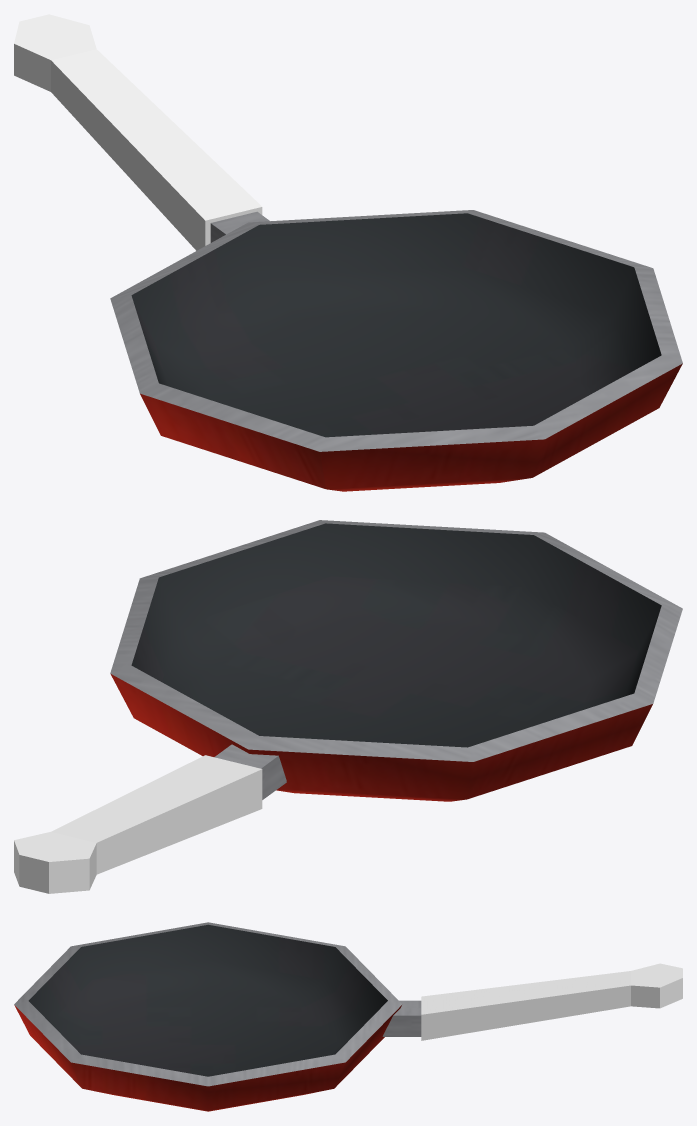
File: Sarten_02.glb
3 views of the same model, one above another, from view 1: azimuth 30°, elevation 25°; view 2: azimuth 150°, elevation 25°; view 3: azimuth 270°, elevation 25° (orthographic). The views are drawn at different scales.
Visible parts, largest first — view 1: Sarten_02; view 2: Sarten_02; view 3: Sarten_02.
Boxes of the visible parts, x1,y1,x2,y2 form: Sarten_02: (14, 14, 682, 491); Sarten_02: (14, 520, 682, 893); Sarten_02: (14, 922, 682, 1111).
Size of the model in its own units: 0.3284 by 0.0762 by 0.5655.
4 materials, 3 textured.
